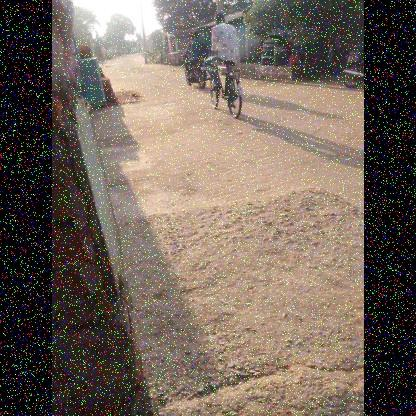Bicycle: (198, 51, 249, 127)
